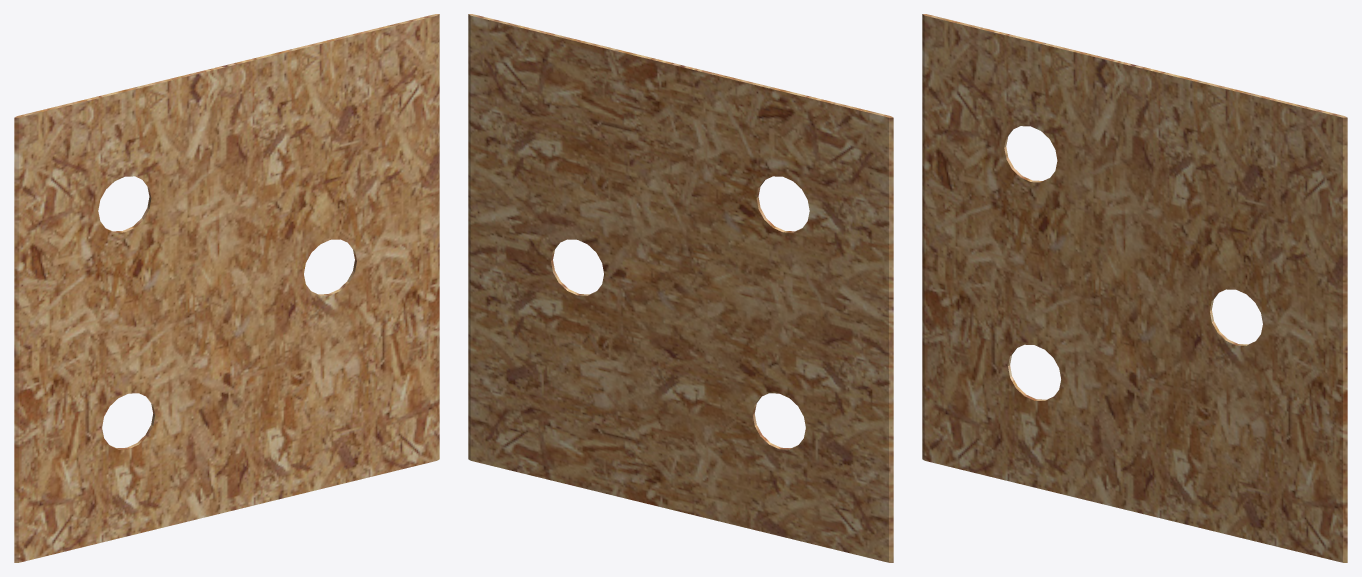
The model's file is small_wall_holes1.dae.
3 renders of one model, left to right at view 1: azimuth 30°, elevation 25°; view 2: azimuth 150°, elevation 25°; view 3: azimuth 330°, elevation 25°, orthographic.
Parts seen in each view (by area): view 1: _; view 2: _; view 3: _.
Boxes of the visible parts, x1,y1,x2,y2 form: _: [14, 14, 439, 562]; _: [468, 14, 893, 562]; _: [922, 14, 1347, 562].
Bounding box in the file's own units: 1.2 × 0.01 × 1.2.
1 material, 1 textured.
